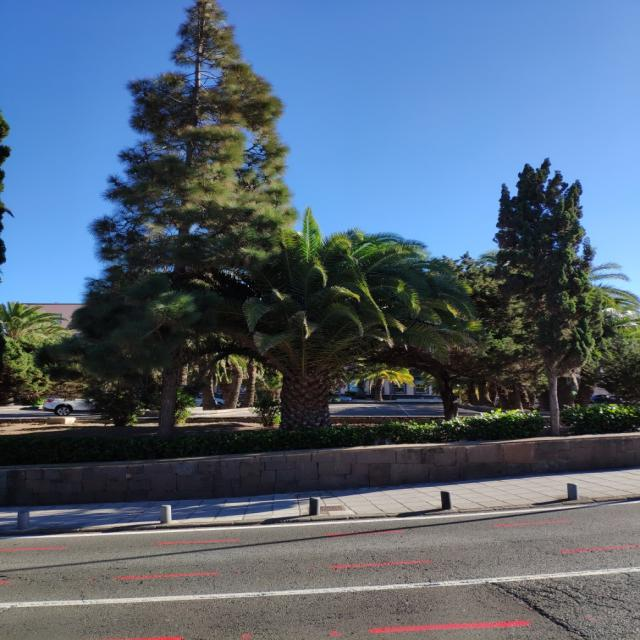Palm-Trees: (170, 224, 464, 426)
